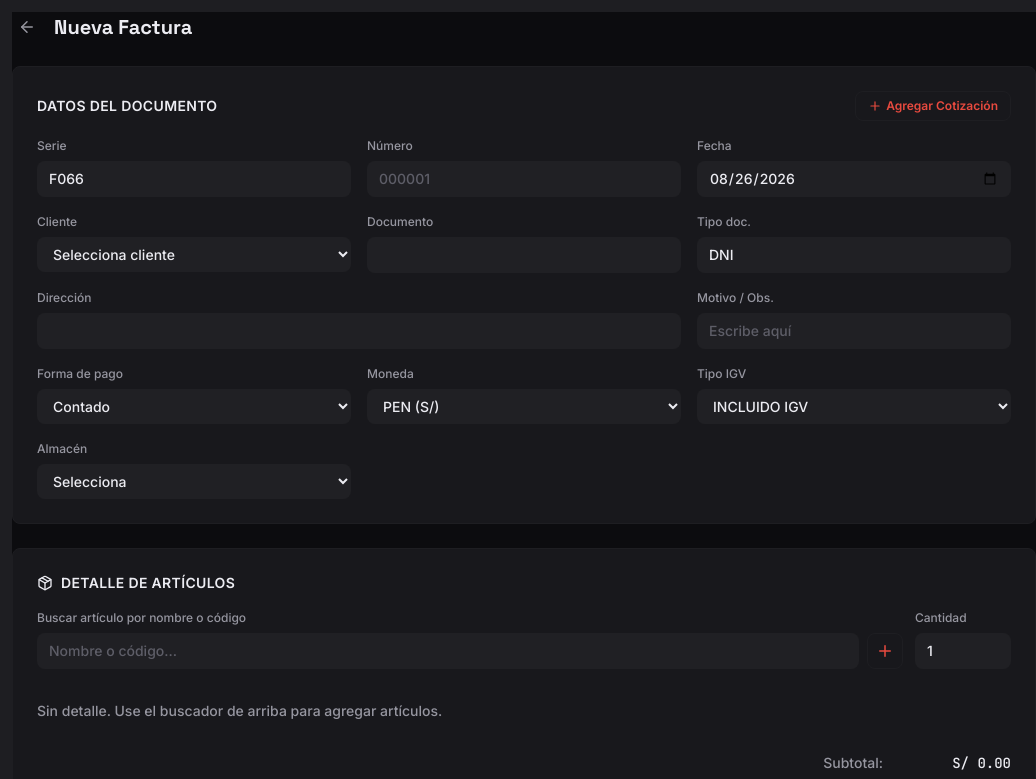
Test case: Test 2: bloqueo/aviso de stock en Venta › seleccionar artículo con stock 0 bloquea la selección
The image size is (1036, 779).
Step 1. Type "ART-000 - Sin Stock" into the field with placeholder "Nombre o código..." → [448, 651], box [37,633,859,669]
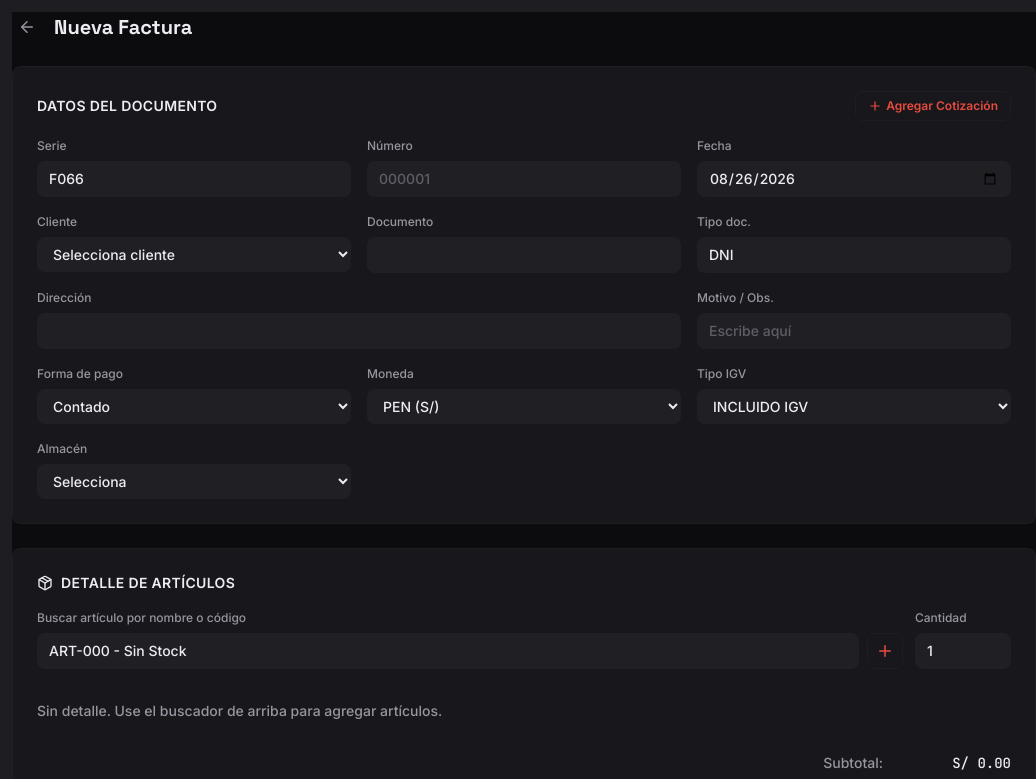
Step 2. Click the button titled "Agregar artículo" → [885, 651], box [867,633,903,669]
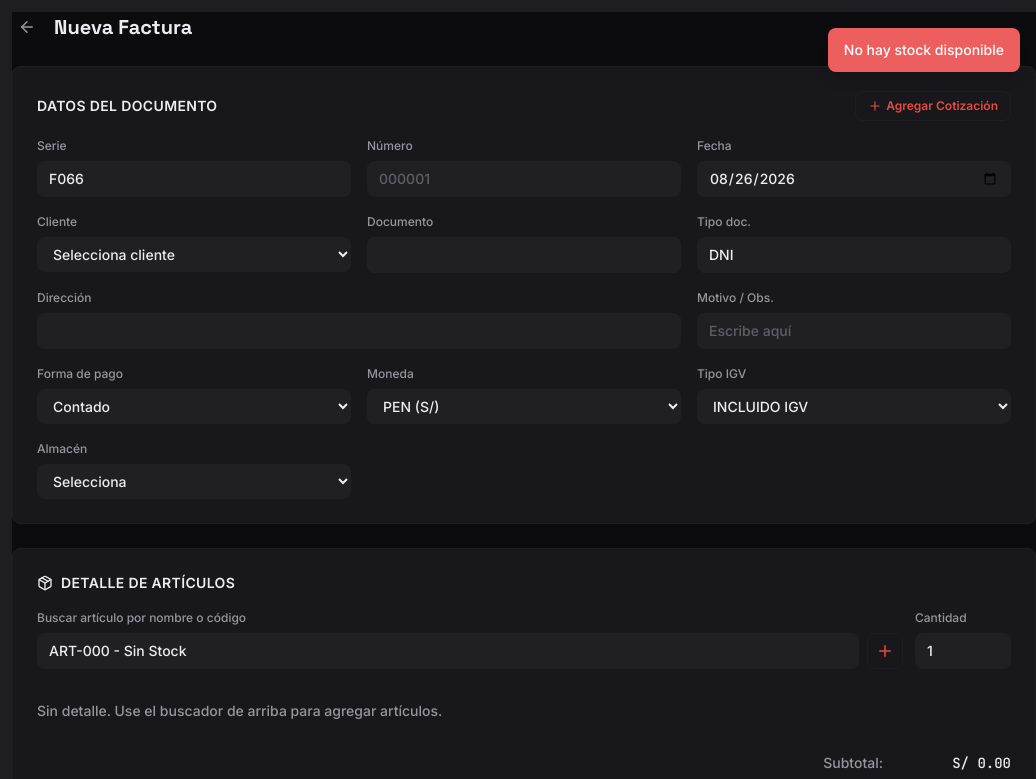
expect the text "No hay stock disponible" is shown: met, box [828,28,1020,72]
